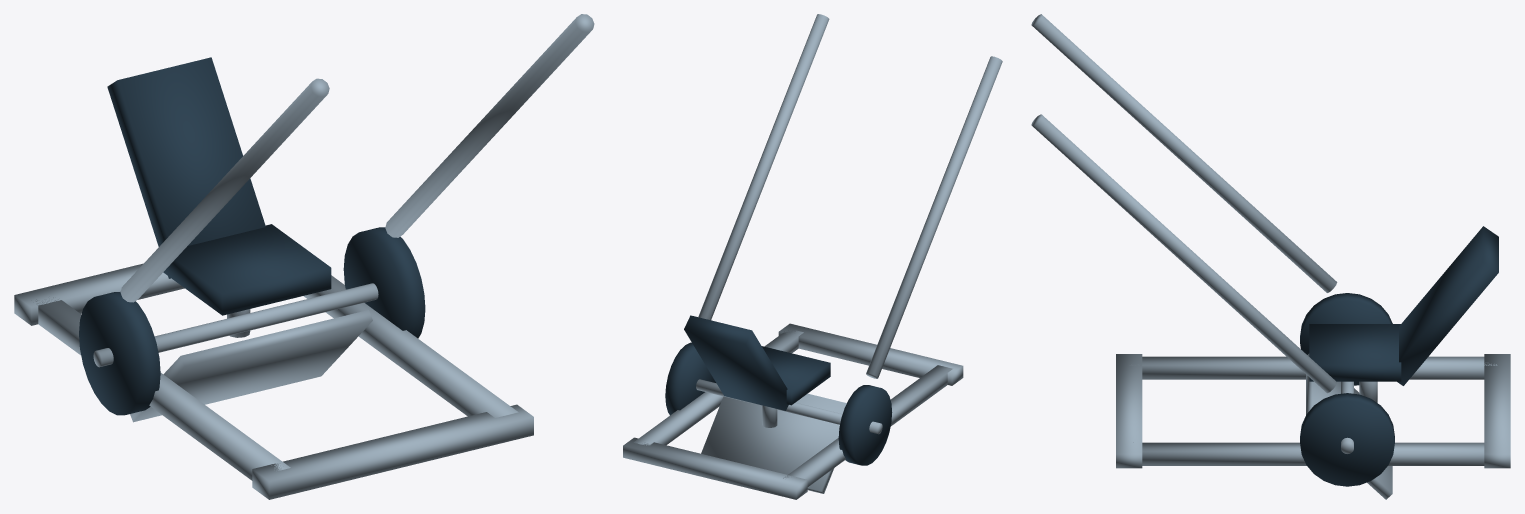
Rendered from machine_b_leg_press.glb.
The picture shows the model from 3 angles, left to right: view 1: azimuth 30°, elevation 25°; view 2: azimuth 150°, elevation 25°; view 3: azimuth 270°, elevation 25°; orthographic projection. The views are drawn at different scales.
Visible parts, largest first — view 1: base, back_pad, plates, foot_plate, seat, rail-1, rail1, weight_horns; view 2: base, foot_plate, back_pad, plates, rail-1, rail1, seat, weight_horns; view 3: base, plates, back_pad, rail-1, rail1, seat, foot_plate.
Boxes of the visible parts, box(x1,y1,x2,y2) form: base: box(14, 263, 533, 499); back_pad: box(107, 57, 265, 278); plates: box(79, 227, 425, 415); foot_plate: box(130, 310, 372, 422); seat: box(163, 224, 331, 315); rail-1: box(120, 78, 329, 302); rail1: box(385, 14, 594, 237); weight_horns: box(93, 283, 378, 367); base: box(623, 323, 963, 499); foot_plate: box(701, 393, 846, 493); back_pad: box(684, 315, 788, 410); plates: box(665, 342, 892, 465); rail-1: box(866, 56, 1002, 378); rail1: box(698, 14, 829, 320); seat: box(762, 346, 830, 405); weight_horns: box(696, 379, 882, 434); base: box(1116, 354, 1510, 468); plates: box(1300, 293, 1394, 486); back_pad: box(1397, 226, 1498, 385); rail-1: box(1031, 14, 1337, 292); rail1: box(1031, 114, 1336, 393); seat: box(1309, 324, 1401, 381); foot_plate: box(1306, 353, 1392, 499).
Bounding box in the file's own units: 1.05 × 1.67 × 1.82.
